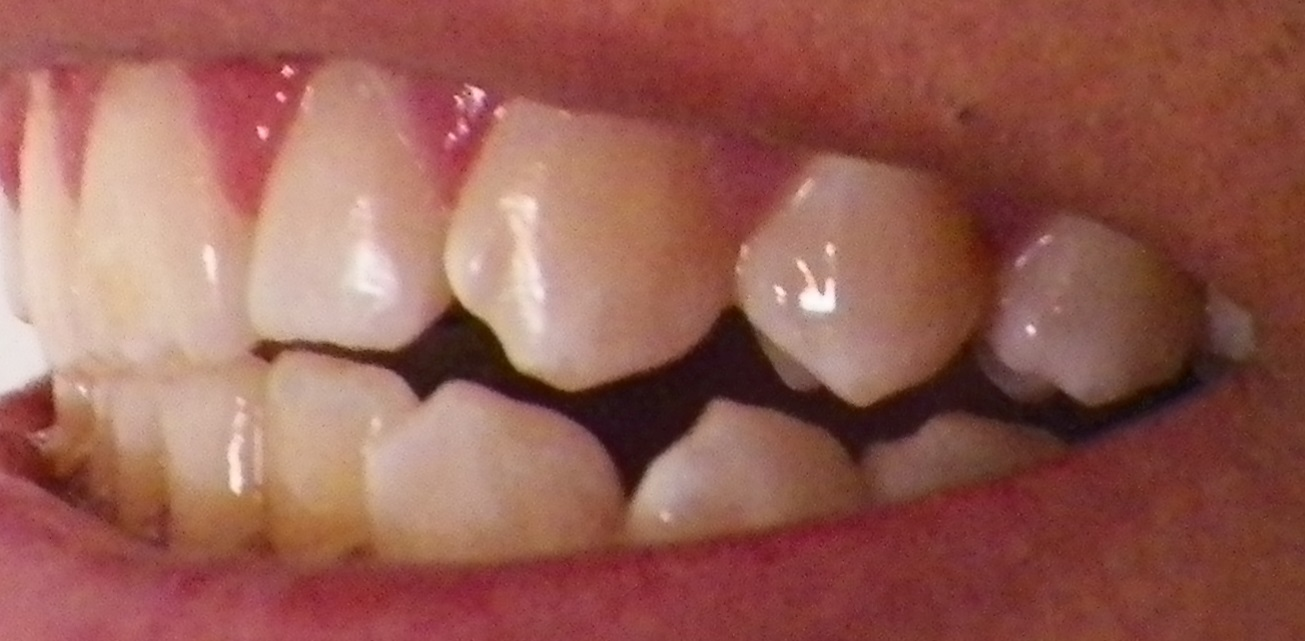boca: (20, 81, 1196, 571)
